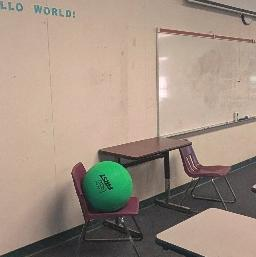algae: (80, 158, 139, 211)
